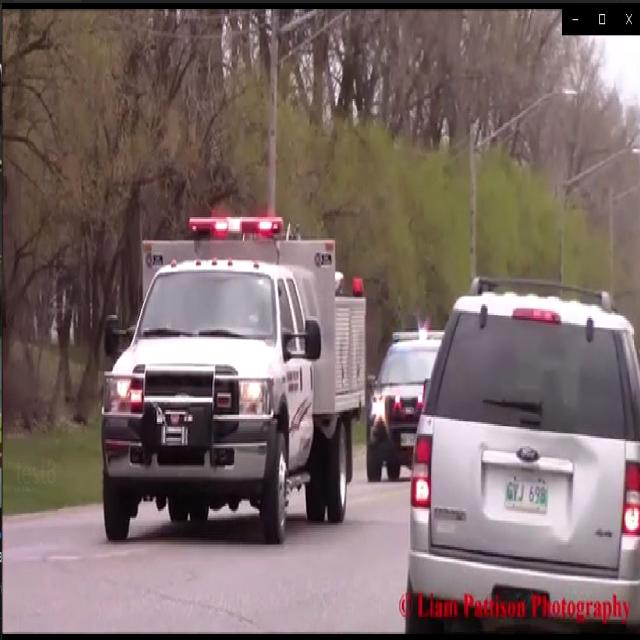emergency: (98, 210, 370, 556), (366, 320, 476, 489)
